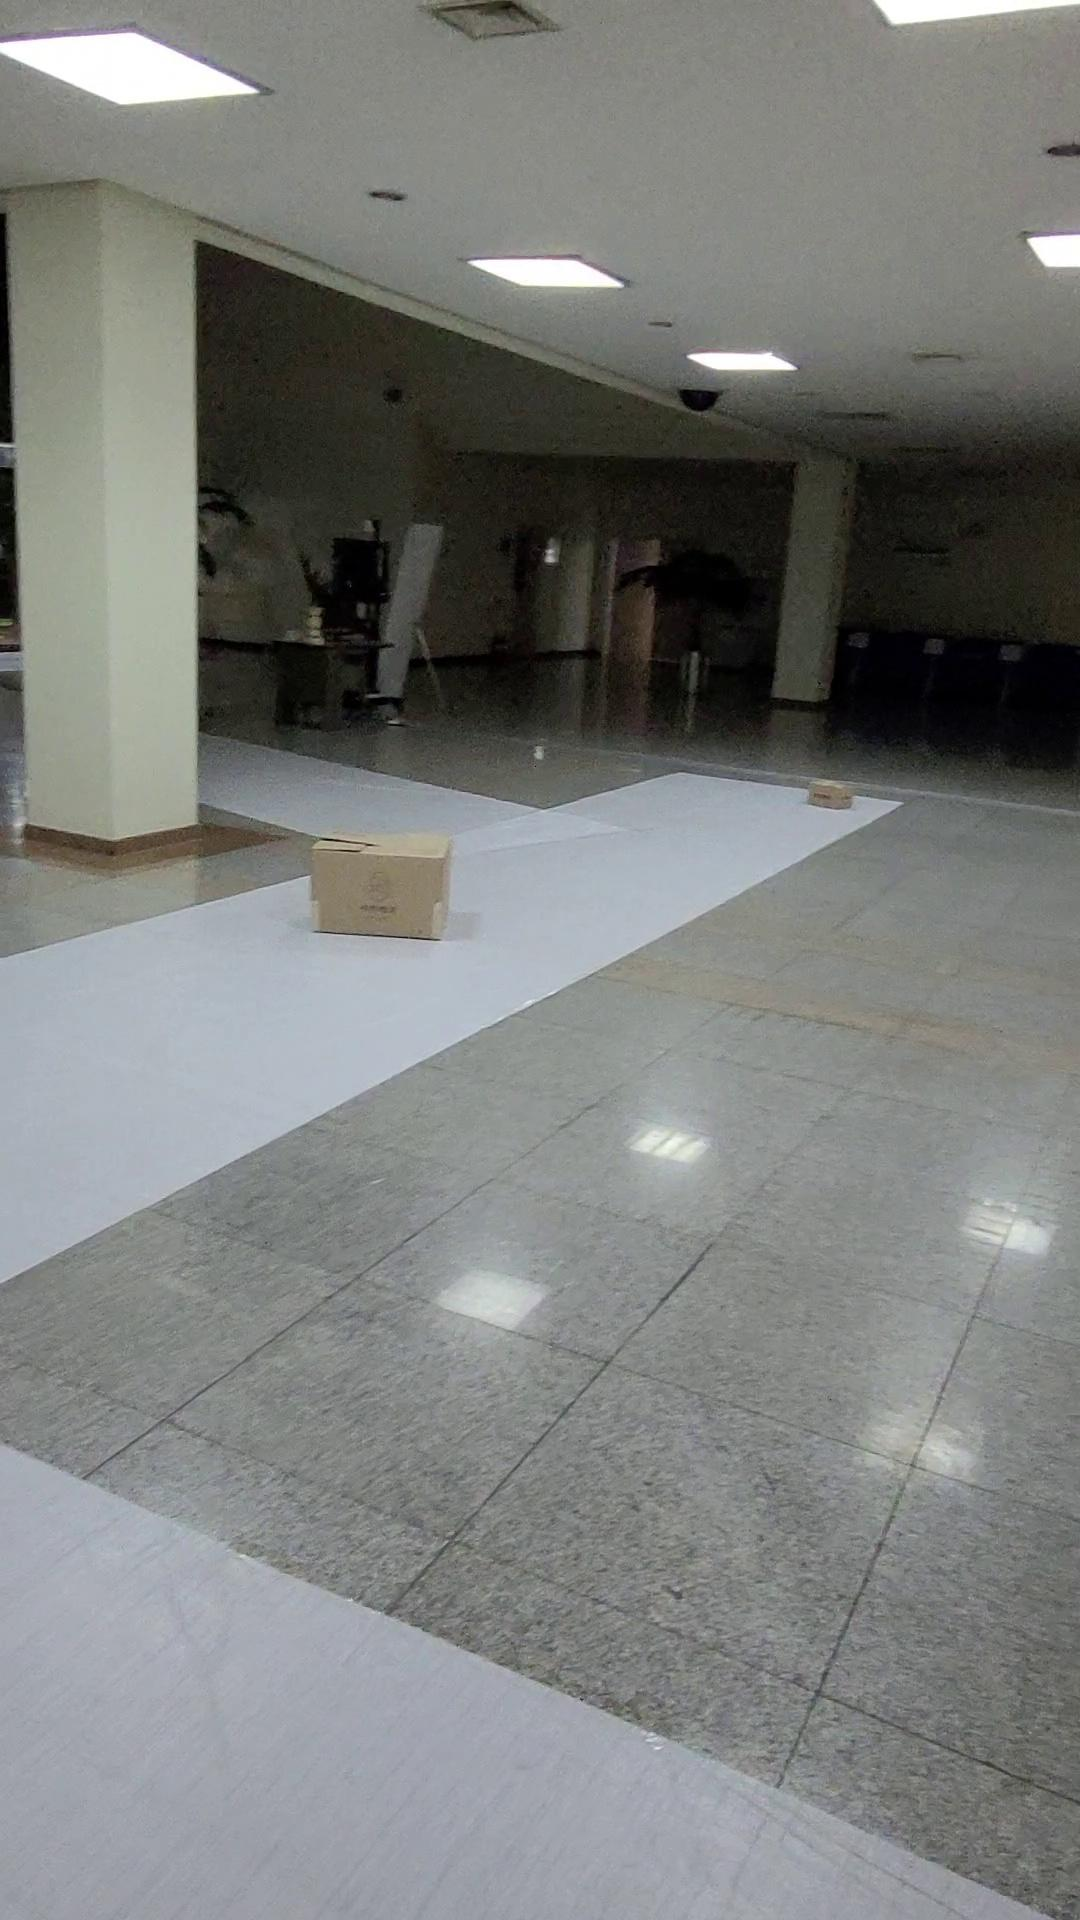Box: (303, 823, 467, 943), (808, 773, 857, 815)
